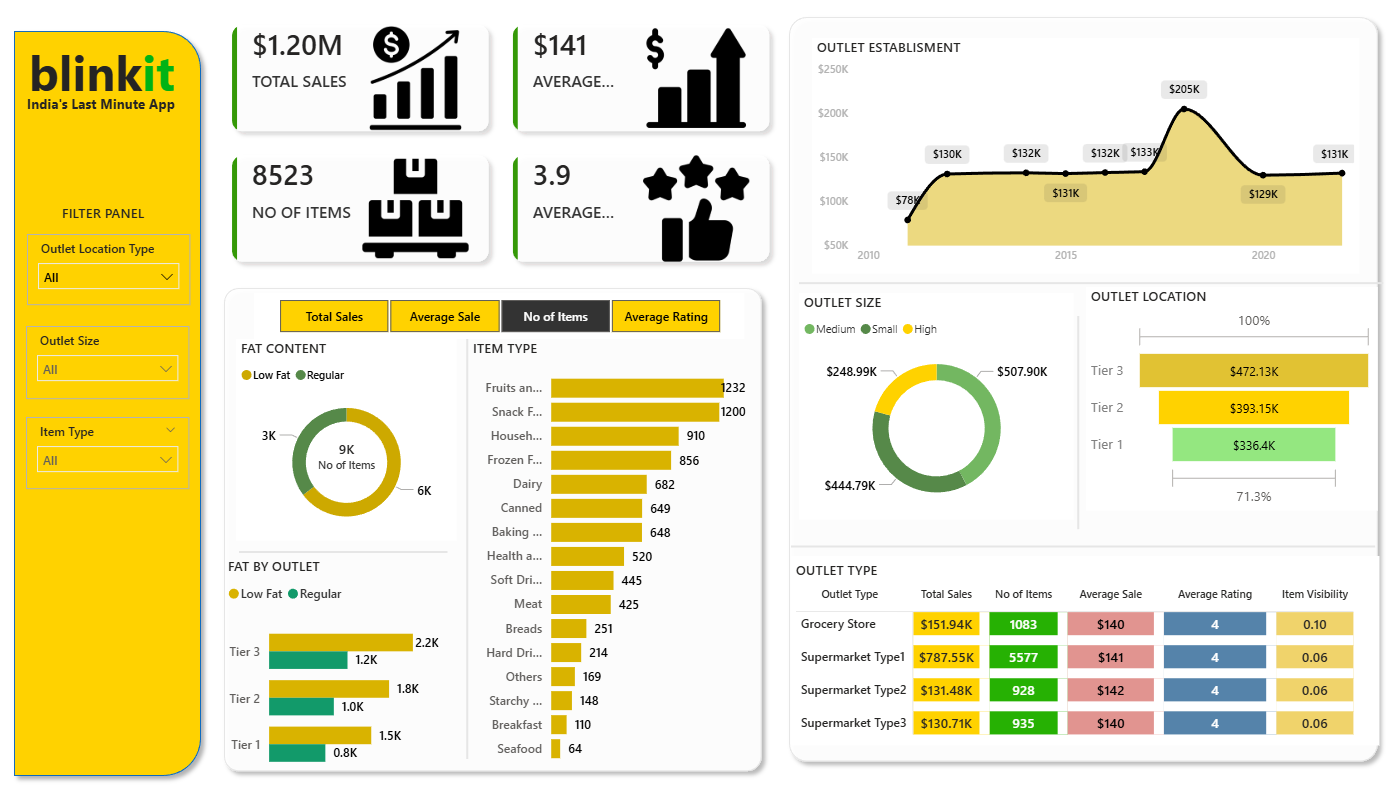

Layout of this report page (visuals, bound fields, positions):
{"tool":"powerbi","page":{"name":"Page 1","canvas":[1400,800],"ordinal":0},"visuals":[{"type":"shape","box":[6,28.9,204.5,761.1],"z":0},{"type":"textbox","box":[24.9,40.9,166.6,82.8],"z":1000},{"type":"textbox","box":[22.9,96.8,166.6,35.9],"z":2000},{"type":"cardVisual","fields":{"Data":["BlinkIT Grocery Data.Total Sales","Avg(BlinkIT Grocery Data.Sales)","BlinkIT Grocery Data.No of Items","Avg(BlinkIT Grocery Data.Rating)"]},"box":[216,14.9,570.2,270.2],"z":3000},{"type":"shape","box":[216,285.1,554.3,500],"z":4000},{"type":"donutChart","title":"FAT CONTENT","fields":{"Category":["BlinkIT Grocery Data.Item Fat Content"],"Y":["BlinkIT Grocery Data.No of Items"]},"box":[236.4,345.1,220.4,201.5],"z":5000},{"type":"slicer","fields":{"Values":["Matrix.Matrix"]},"box":[254.3,298.9,489.4,45.7],"z":6000},{"type":"cardVisual","fields":{"Data":["BlinkIT Grocery Data.No of Items"]},"box":[298.3,431.9,97.8,60.8],"z":7000},{"type":"clusteredBarChart","title":"FAT BY OUTLET","fields":{"Category":["BlinkIT Grocery Data.Outlet Location Type"],"Series":["BlinkIT Grocery Data.Item Fat Content"],"Y":["BlinkIT Grocery Data.No of Items"]},"box":[223.4,562.8,220.2,229.8],"z":8000},{"type":"shape","box":[239.4,547.6,208.5,20],"z":9000},{"type":"shape","box":[455.3,344.7,24.5,419.1],"z":10000},{"type":"barChart","title":"ITEM TYPE","fields":{"Category":["BlinkIT Grocery Data.Item Type"],"Y":["BlinkIT Grocery Data.No of Items"]},"box":[468.1,344.7,281.9,433],"z":11000},{"type":"shape","box":[778.7,14.9,605.3,760.6],"z":12000},{"type":"lineChart","title":"OUTLET ESTABLISMENT","fields":{"Category":["BlinkIT Grocery Data.Outlet Establishment Year"],"Y":["BlinkIT Grocery Data.Total Sales"]},"box":[810.6,44.7,545.7,235.1],"z":13000},{"type":"shape","box":[797.9,279.8,583,20.2],"z":14000},{"type":"donutChart","title":"OUTLET SIZE","fields":{"Category":["BlinkIT Grocery Data.Outlet Size"],"Y":["BlinkIT Grocery Data.Total Sales"]},"box":[797.9,298.9,274.5,225.5],"z":15000},{"type":"shape","box":[1072.3,322.3,8.5,212.8],"z":16000},{"type":"funnel","title":"OUTLET LOCATION","fields":{"Category":["BlinkIT Grocery Data.Outlet Location Type"],"Y":["Sum(BlinkIT Grocery Data.Sales)"]},"box":[1084,293.6,291.5,223.4],"z":17000},{"type":"shape","box":[790.4,544.7,583,14.9],"z":18000},{"type":"pivotTable","title":"OUTLET TYPE","fields":{"Rows":["BlinkIT Grocery Data.Outlet Type"],"Values":["BlinkIT Grocery Data.Total Sales","BlinkIT Grocery Data.No of Items","BlinkIT Grocery Data.Average Sale","BlinkIT Grocery Data.Average Rating","Avg(BlinkIT Grocery Data.Item Visibility)"]},"box":[790.4,561.7,587.2,189.4],"z":19000},{"type":"slicer","fields":{"Values":["BlinkIT Grocery Data.Outlet Location Type"]},"box":[27.9,240.4,162.6,71],"z":20000},{"type":"slicer","fields":{"Values":["BlinkIT Grocery Data.Outlet Size"]},"box":[26.9,332.2,162.6,72.8],"z":21000},{"type":"slicer","fields":{"Values":["BlinkIT Grocery Data.Item Type"]},"box":[26.9,422.9,162.6,71.8],"z":22000},{"type":"textbox","box":[57.9,205.5,103.7,27.9],"z":23000}]}

Visuals, with their boxes in screenshot pixels (x1, y1, x2, y2), scaled from the page's 1400x800 canvas onto the 1390x794 screenshot:
shape: x1=6, y1=29, x2=209, y2=784
textbox: x1=25, y1=41, x2=190, y2=123
textbox: x1=23, y1=96, x2=188, y2=132
cardVisual - BlinkIT Grocery Data.Total Sales x Avg(BlinkIT Grocery Data.Sales): x1=214, y1=15, x2=781, y2=283
shape: x1=214, y1=283, x2=765, y2=779
"FAT CONTENT" donutChart: x1=235, y1=343, x2=454, y2=543
slicer - Matrix.Matrix: x1=252, y1=297, x2=738, y2=342
cardVisual - BlinkIT Grocery Data.No of Items: x1=296, y1=429, x2=393, y2=489
"FAT BY OUTLET" clusteredBarChart: x1=222, y1=559, x2=440, y2=787
shape: x1=238, y1=543, x2=445, y2=563
shape: x1=452, y1=342, x2=476, y2=758
"ITEM TYPE" barChart: x1=465, y1=342, x2=745, y2=772
shape: x1=773, y1=15, x2=1374, y2=770
"OUTLET ESTABLISMENT" lineChart: x1=805, y1=44, x2=1347, y2=278
shape: x1=792, y1=278, x2=1371, y2=298
"OUTLET SIZE" donutChart: x1=792, y1=297, x2=1065, y2=520
shape: x1=1065, y1=320, x2=1073, y2=531
"OUTLET LOCATION" funnel: x1=1076, y1=291, x2=1366, y2=513
shape: x1=785, y1=541, x2=1364, y2=555
"OUTLET TYPE" pivotTable: x1=785, y1=557, x2=1368, y2=745
slicer - BlinkIT Grocery Data.Outlet Location Type: x1=28, y1=239, x2=189, y2=309
slicer - BlinkIT Grocery Data.Outlet Size: x1=27, y1=330, x2=188, y2=402
slicer - BlinkIT Grocery Data.Item Type: x1=27, y1=420, x2=188, y2=491
textbox: x1=57, y1=204, x2=160, y2=232
